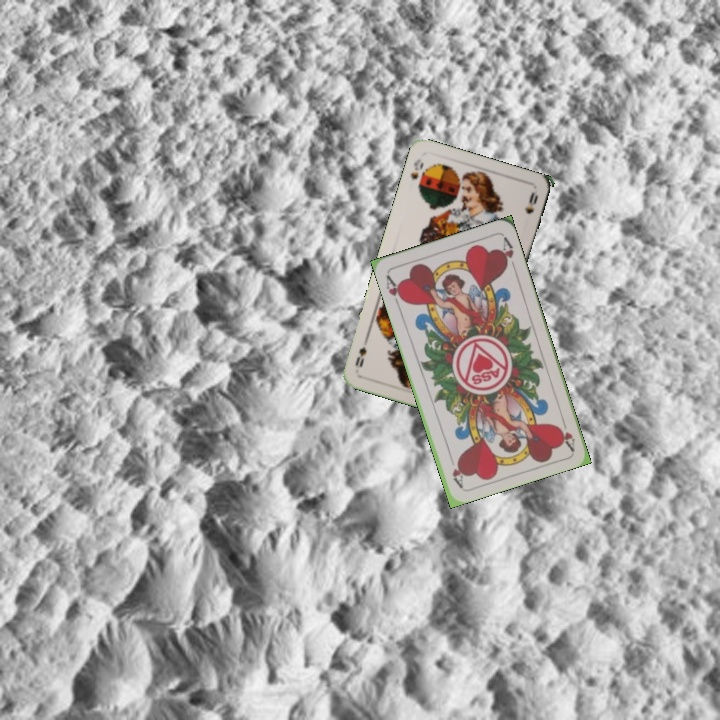HA: (382, 271, 407, 310), (554, 412, 577, 452)
SO: (407, 155, 426, 182)
